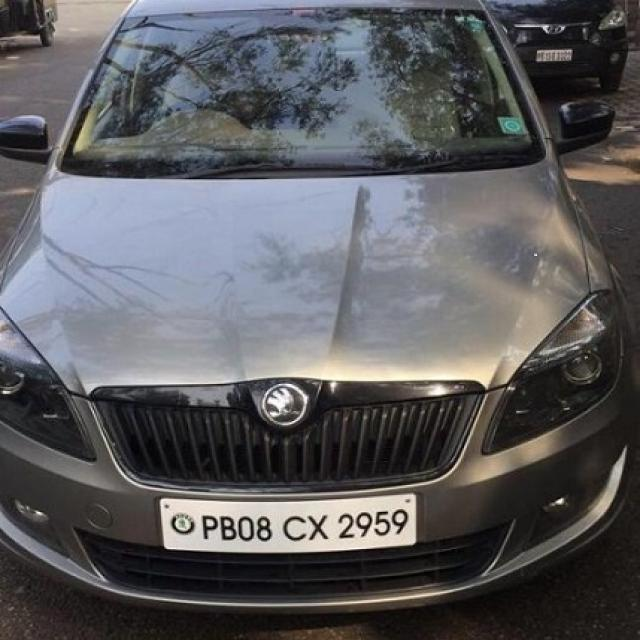license-plate: (158, 492, 416, 549)
